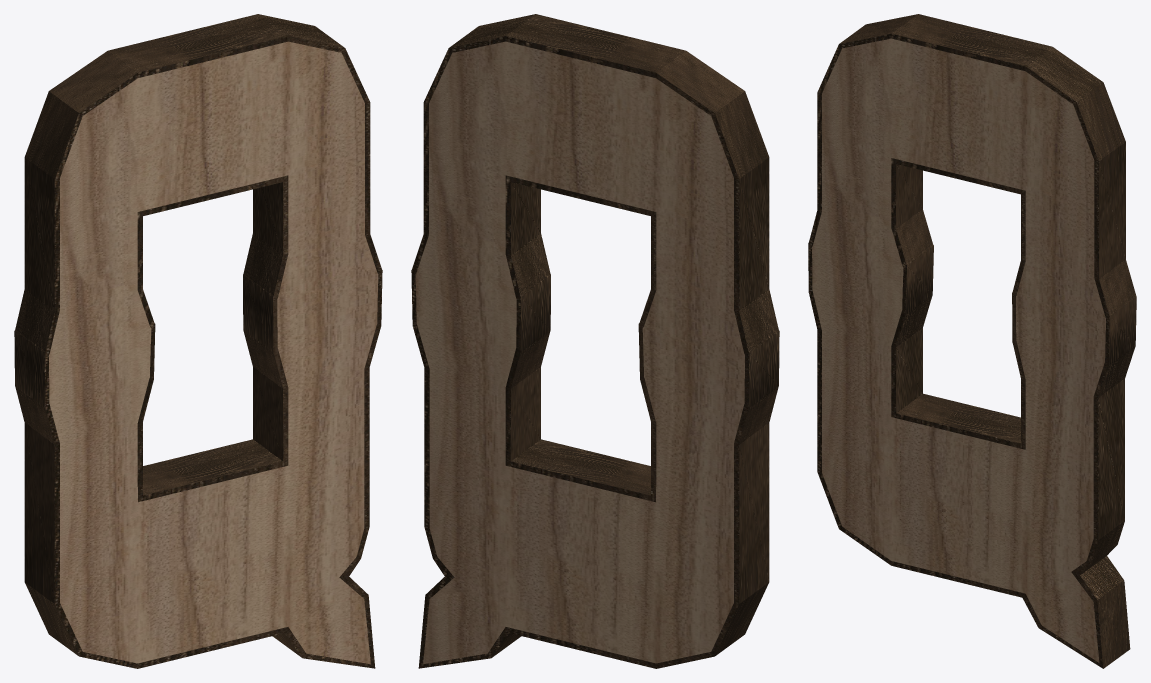
The picture shows the model from 3 angles, left to right: view 1: azimuth 30°, elevation 25°; view 2: azimuth 150°, elevation 25°; view 3: azimuth 330°, elevation 25°; orthographic projection. The views are drawn at different scales.
Parts seen in each view (by area): view 1: Q, Q_outline; view 2: Q, Q_outline; view 3: Q, Q_outline.
Part boxes in pixels (x1,y1,x2,y2): Q: [49, 41, 378, 664]; Q_outline: [14, 14, 382, 668]; Q: [415, 41, 744, 664]; Q_outline: [411, 14, 779, 668]; Q: [812, 38, 1105, 662]; Q_outline: [808, 14, 1136, 668].
Bounding box in the file's own units: 64.63 × 119 × 10.
Materials: 2 (2 with a texture image).
